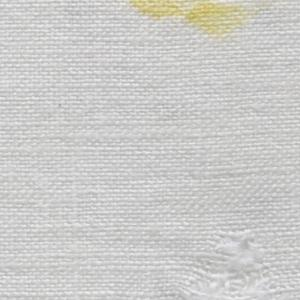Stain: (125, 1, 280, 49)
